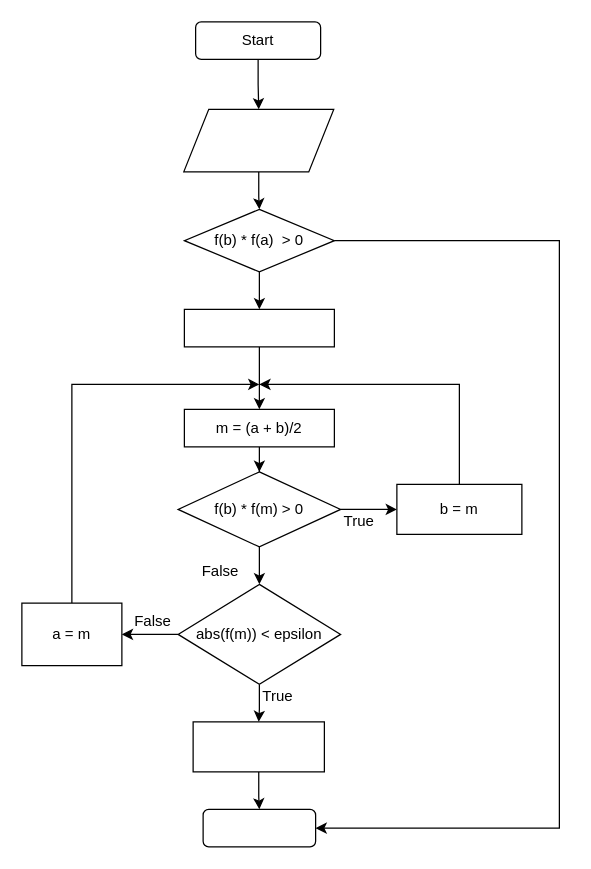
Image size: 591x869. Some labels were removed from this diagram. Here are the shapes that lost their labels. From the top down, the centre of each, then its label:
At point 258,140: "f(x), a, b".
At point 258,327: "epsilon = 0.001".
At point 258,746: "return m".
At point 259,827: "end".
